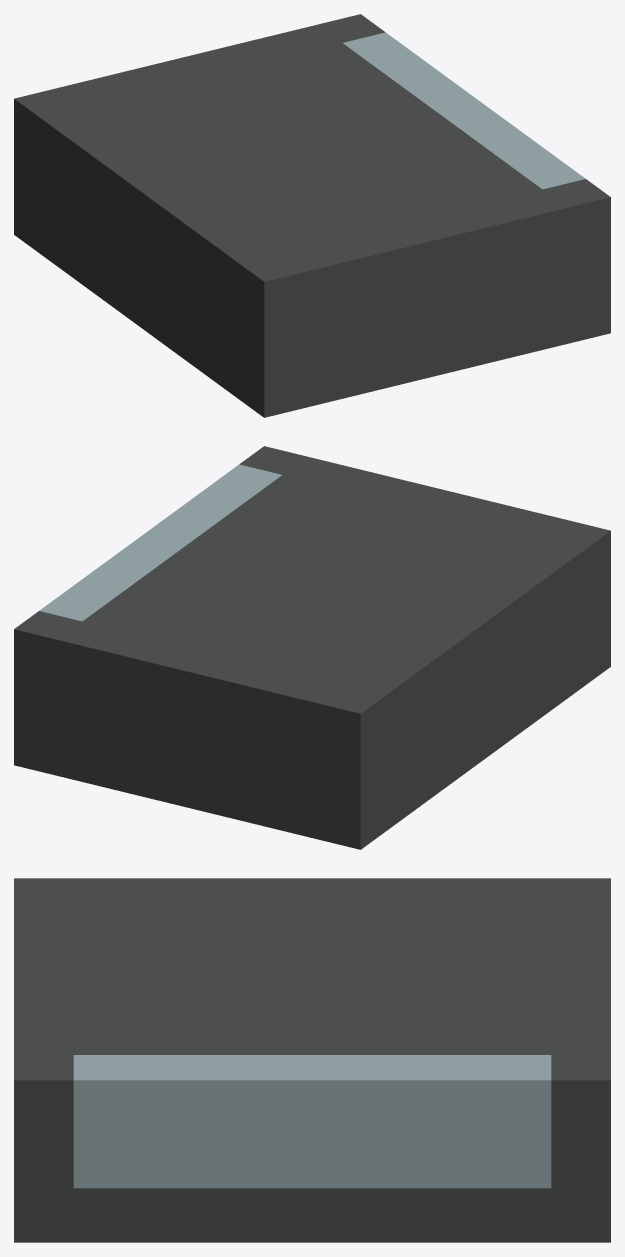
The model's file is apc_periscope.glb.
3 renders of one model, top to bottom at view 1: azimuth 30°, elevation 25°; view 2: azimuth 150°, elevation 25°; view 3: azimuth 270°, elevation 25°, orthographic. The views are drawn at different scales.
Visible parts, largest first — view 1: body:compound; view 2: body:compound; view 3: body:compound.
Boxes of the visible parts, x1,y1,x2,y2 form: body:compound: (14, 14, 610, 417); body:compound: (14, 446, 610, 849); body:compound: (14, 878, 610, 1242).
Size of the model in its own units: 0.25 by 0.0938 by 0.3125.
